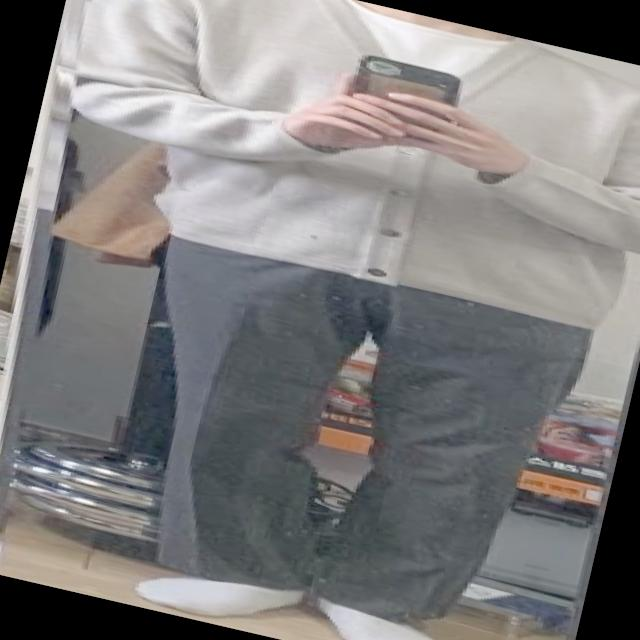cardigan: (43, 0, 640, 347)
slacks: (99, 229, 590, 640)
